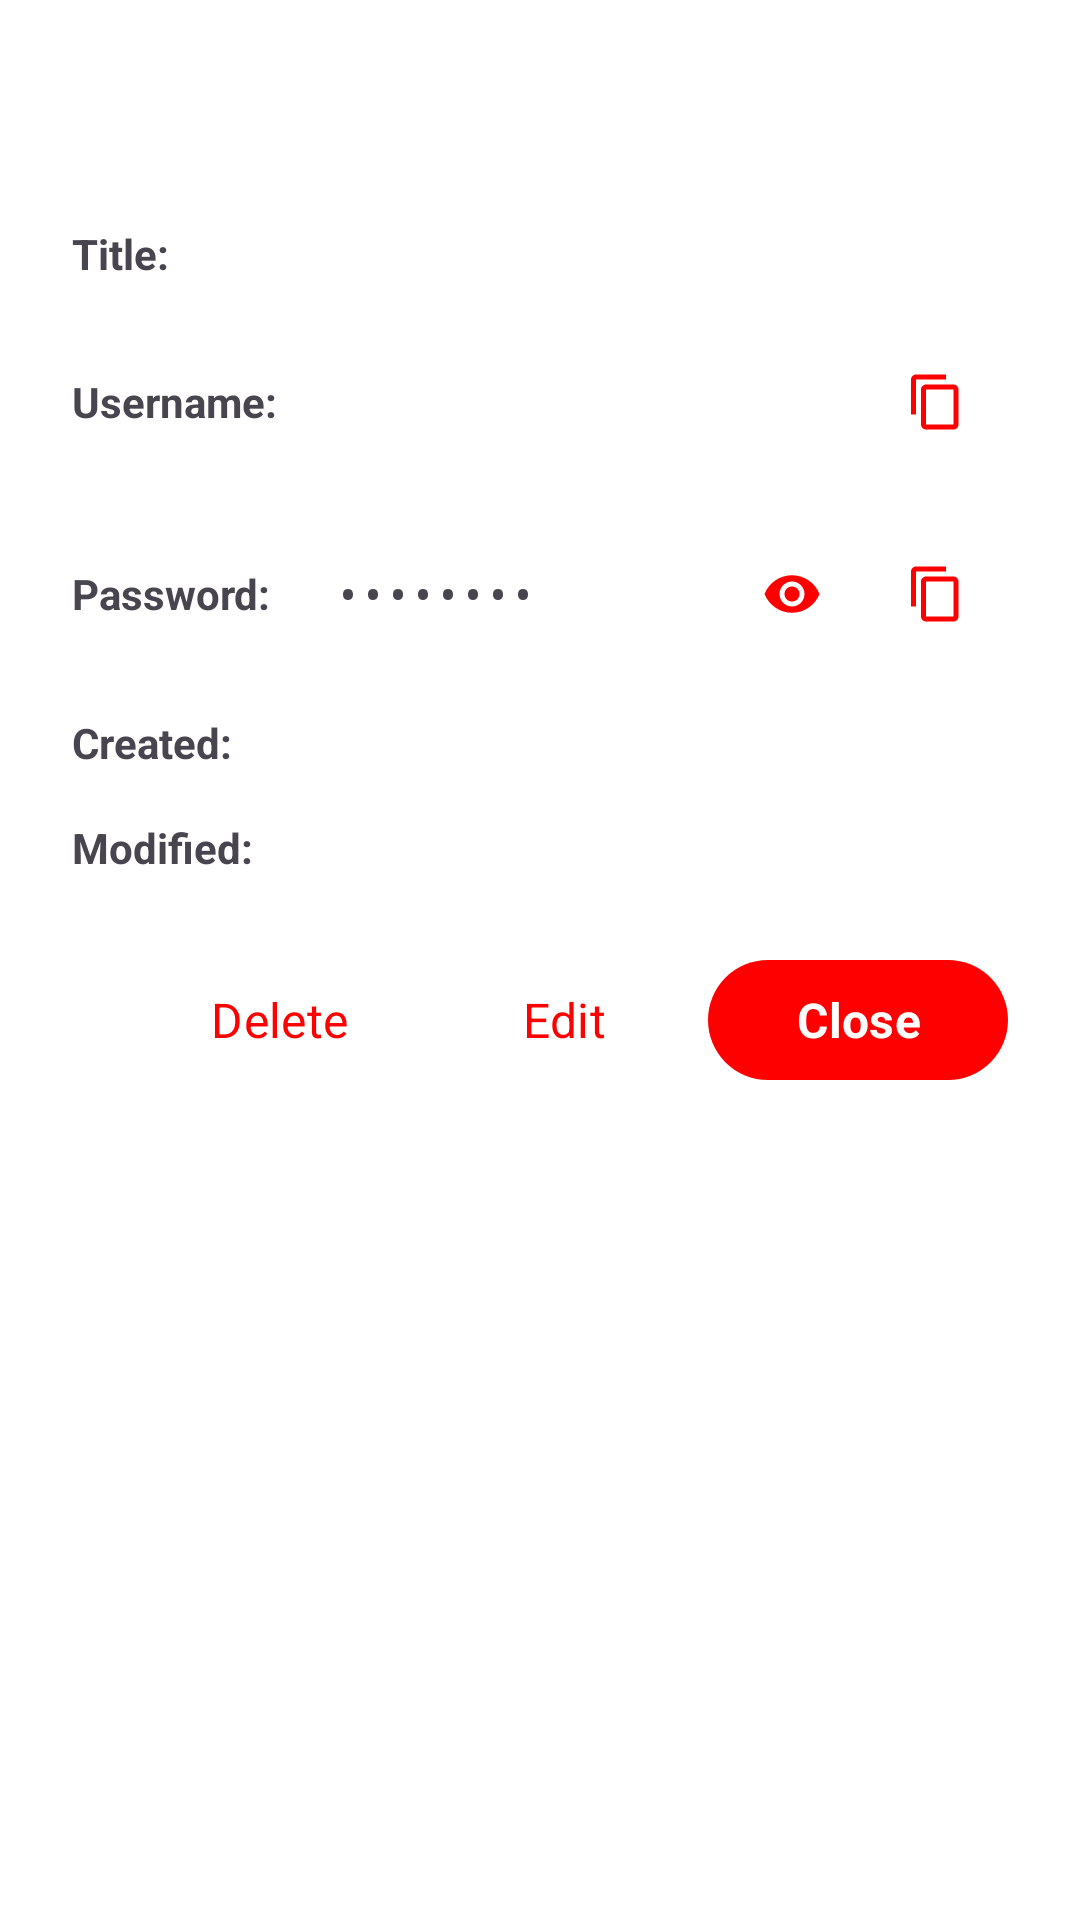

Screen size 1080px×1920px. Icon name, then its box in pixels as bbox=[x1, y1, x2, y2]:
visibility: bbox=[764, 575, 820, 613]
